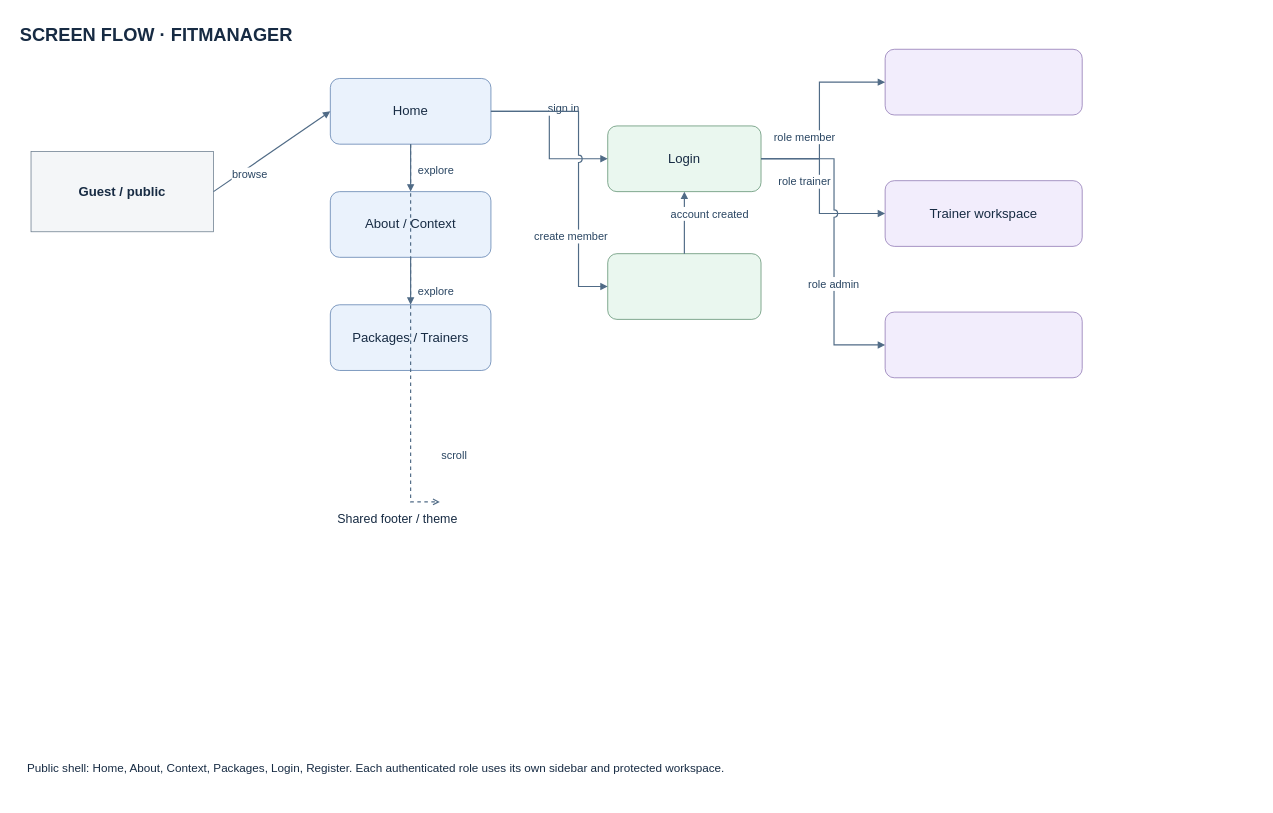
Image size: 1273x813. Some labels were removed from this diagram. Here are the shapes that lost their labels. From the top down, the centre of each, then its label:
At (x=983, y=82): "Member dashboard".
At (x=684, y=286): "Register".
At (x=983, y=344): "Admin workspace".
